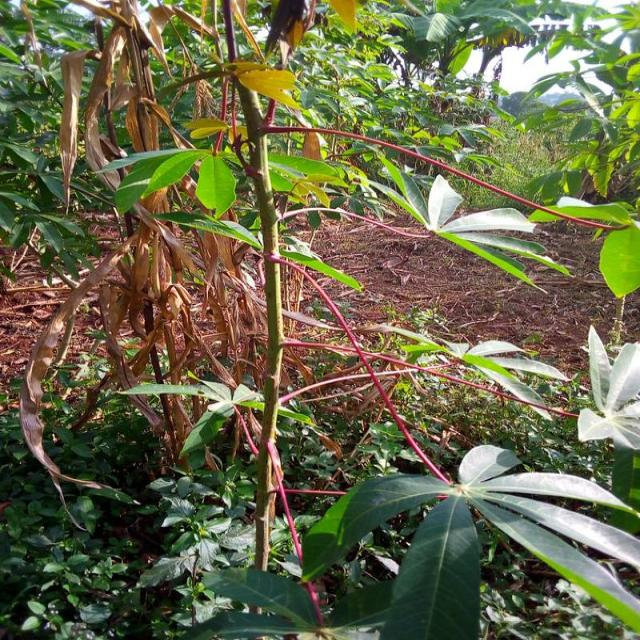cassava leaf: (300, 442, 638, 636), (194, 152, 236, 216)
